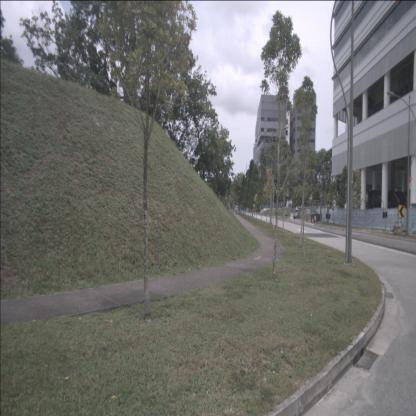movable_object-barrier: (290, 213, 294, 220)
movable_object-trafficcone: (314, 217, 317, 224), (283, 213, 285, 219), (312, 218, 314, 224)
vehicle-truck: (294, 206, 310, 219)
